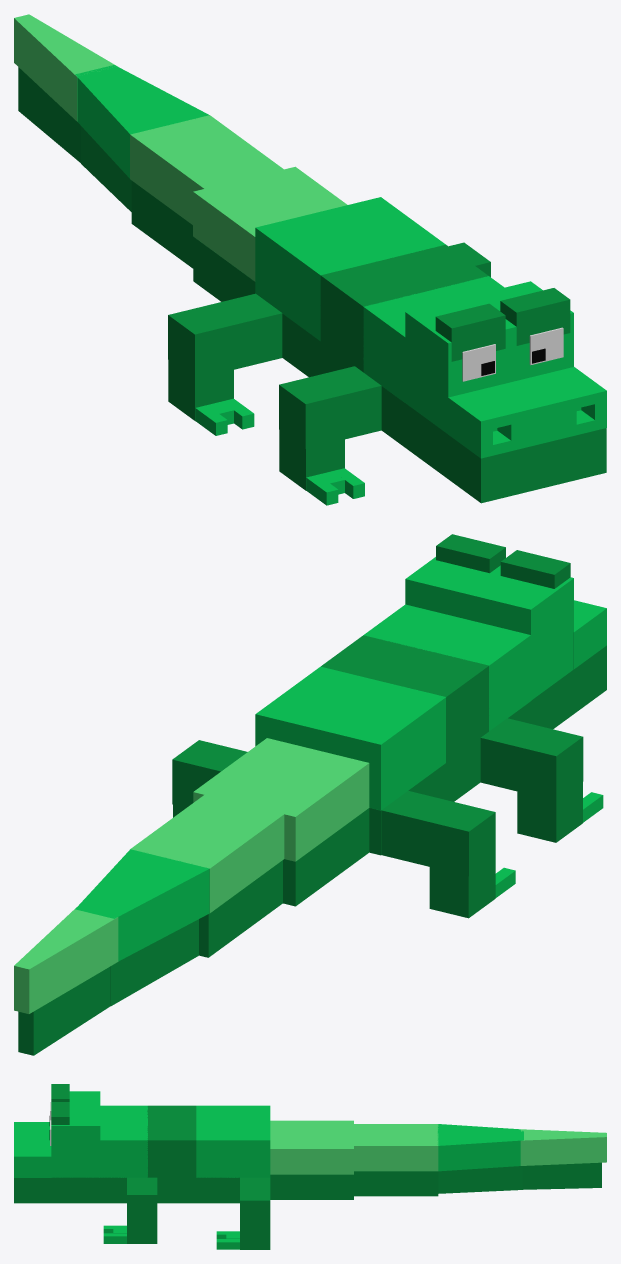
The model's file is croco.fbx.
3 views of the same model, one above another, from view 1: azimuth 30°, elevation 25°; view 2: azimuth 150°, elevation 25°; view 3: azimuth 270°, elevation 25° (orthographic). The views are drawn at different scales.
Parts seen in each view (by area): view 1: pCube306, pCube291, pCube290, pCube320, pCube305, pCube319, pCube322, pCube321, pCube311, pCube304, pCube333, pCube294 (+16 smaller); view 2: pCube306, pCube319, pCube291, pCube320, pCube321, pCube305, pCube304, pCube322, pCube333, pCube311, pCube332, pCube316 (+11 smaller); view 3: pCube306, pCube319, pCube320, pCube291, pCube305, pCube321, pCube304, pCube333, pCube290, pCube317, pCube316, pCube318 (+14 smaller).
Boxes of the visible parts, x1,y1,x2,y2 form: pCube306: (255, 197, 445, 341); pCube291: (405, 281, 573, 433); pCube290: (405, 403, 606, 503); pCube320: (130, 115, 283, 224); pCube305: (320, 244, 488, 372); pCube319: (193, 166, 347, 281); pCube322: (168, 293, 282, 379); pCube321: (75, 65, 209, 178); pCube311: (279, 366, 381, 448); pCube304: (363, 276, 504, 402); pCube333: (14, 14, 117, 121); pCube294: (448, 387, 522, 458); pCube306: (255, 666, 445, 810); pCube319: (193, 738, 369, 861); pCube291: (405, 557, 573, 699); pCube320: (130, 793, 284, 912); pCube321: (75, 849, 209, 961); pCube305: (321, 635, 488, 762); pCube304: (363, 604, 531, 731); pCube322: (381, 791, 495, 875); pCube333: (14, 907, 118, 1013); pCube311: (480, 718, 583, 800); pCube332: (18, 966, 110, 1055); pCube316: (283, 808, 369, 906); pCube306: (196, 1105, 270, 1177); pCube319: (270, 1120, 353, 1174); pCube320: (352, 1124, 438, 1171); pCube291: (51, 1091, 100, 1177); pCube305: (147, 1105, 196, 1177); pCube321: (437, 1124, 523, 1171); pCube304: (99, 1105, 147, 1177); pCube333: (520, 1129, 606, 1165); pCube290: (14, 1177, 100, 1203); pCube317: (354, 1171, 438, 1196); pCube316: (270, 1174, 353, 1199); pCube318: (438, 1166, 522, 1193).
Bounding box in the file's own units: 8.59 × 5.32 × 26.23.
